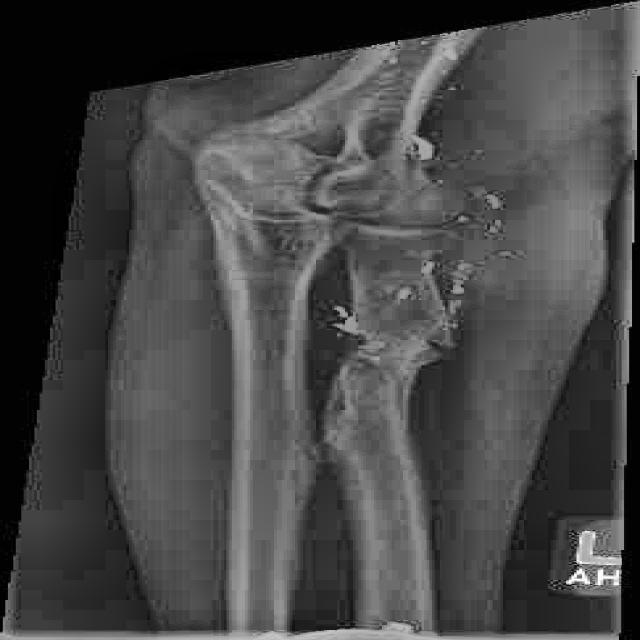elbow positive: (310, 278, 481, 415)
